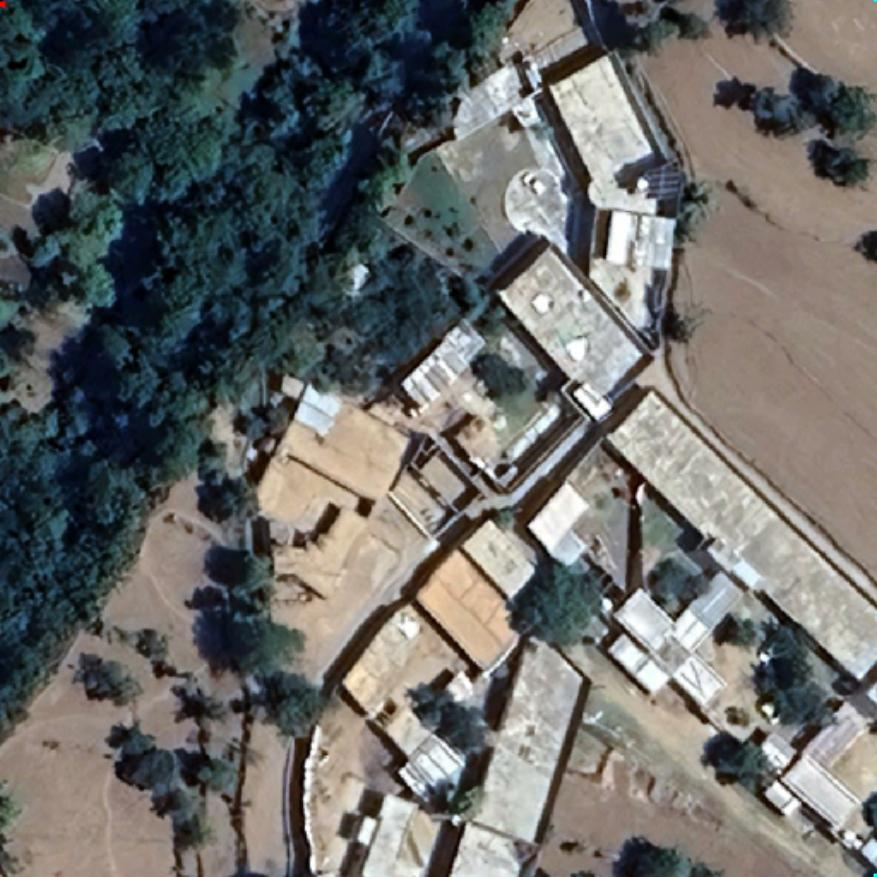Solarpanel: (647, 162, 684, 200)
